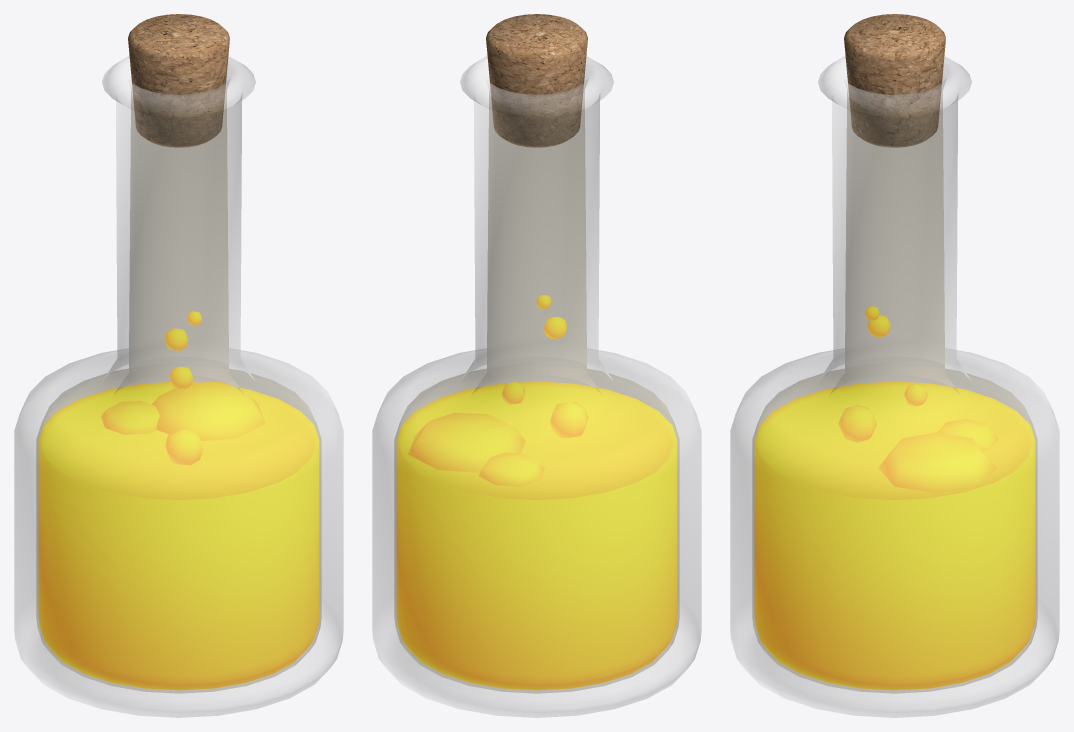
The model's file is glass-bottle.glb.
3 renders of one model, left to right at view 1: azimuth 30°, elevation 25°; view 2: azimuth 150°, elevation 25°; view 3: azimuth 270°, elevation 25°, orthographic.
Parts seen in each view (by area): view 1: Glass Bottle_2, Interior Glass_3, Liquid_5, Cork_4, Cube.003_9, Cube.005_11, Cube_6; view 2: Glass Bottle_2, Interior Glass_3, Liquid_5, Cork_4, Cube.003_9, Cube.005_11, Cube_6; view 3: Glass Bottle_2, Interior Glass_3, Liquid_5, Cork_4, Cube.003_9, Cube_6, Cube.005_11.
Boxes of the visible parts, left/top/right/bottom form: Glass Bottle_2: left=14, top=56, right=343, bottom=717; Interior Glass_3: left=36, top=91, right=321, bottom=693; Liquid_5: left=38, top=382, right=319, bottom=690; Cork_4: left=128, top=14, right=229, bottom=147; Cube.003_9: left=152, top=381, right=265, bottom=440; Cube.005_11: left=101, top=401, right=159, bottom=434; Cube_6: left=165, top=429, right=203, bottom=465; Glass Bottle_2: left=372, top=56, right=701, bottom=717; Interior Glass_3: left=394, top=91, right=679, bottom=693; Liquid_5: left=396, top=381, right=677, bottom=690; Cork_4: left=486, top=14, right=587, bottom=147; Cube.003_9: left=408, top=412, right=525, bottom=472; Cube.005_11: left=479, top=452, right=544, bottom=486; Cube_6: left=550, top=402, right=588, bottom=437; Glass Bottle_2: left=730, top=56, right=1059, bottom=717; Interior Glass_3: left=752, top=91, right=1037, bottom=693; Liquid_5: left=754, top=381, right=1035, bottom=690; Cork_4: left=844, top=14, right=945, bottom=147; Cube.003_9: left=878, top=432, right=996, bottom=493; Cube_6: left=838, top=405, right=876, bottom=442; Cube.005_11: left=938, top=419, right=998, bottom=450.
Bounding box in the file's own units: 6.3 × 13.04 × 6.3.
4 materials, 1 textured.
